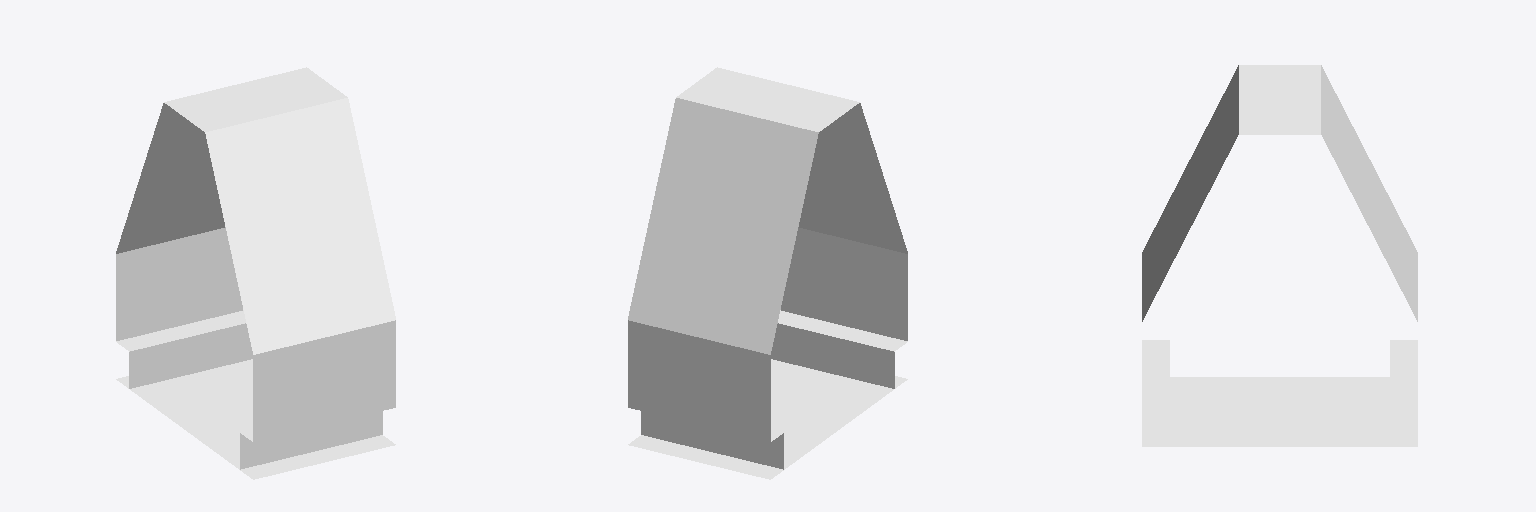
File: CZ-Hallway-00.obj
The picture shows the model from 3 angles: view 1: azimuth 30°, elevation 25°; view 2: azimuth 150°, elevation 25°; view 3: azimuth 270°, elevation 25°; orthographic projection.
Visible parts, largest first — view 1: CZ-Hallway-00; view 2: CZ-Hallway-00; view 3: CZ-Hallway-00.
Boxes of the visible parts, x1=… form: CZ-Hallway-00: x1=116, y1=67, x2=395, y2=479; CZ-Hallway-00: x1=628, y1=67, x2=907, y2=479; CZ-Hallway-00: x1=1142, y1=65, x2=1417, y2=446.
Size of the model in its own units: 3 by 6.25 by 5.